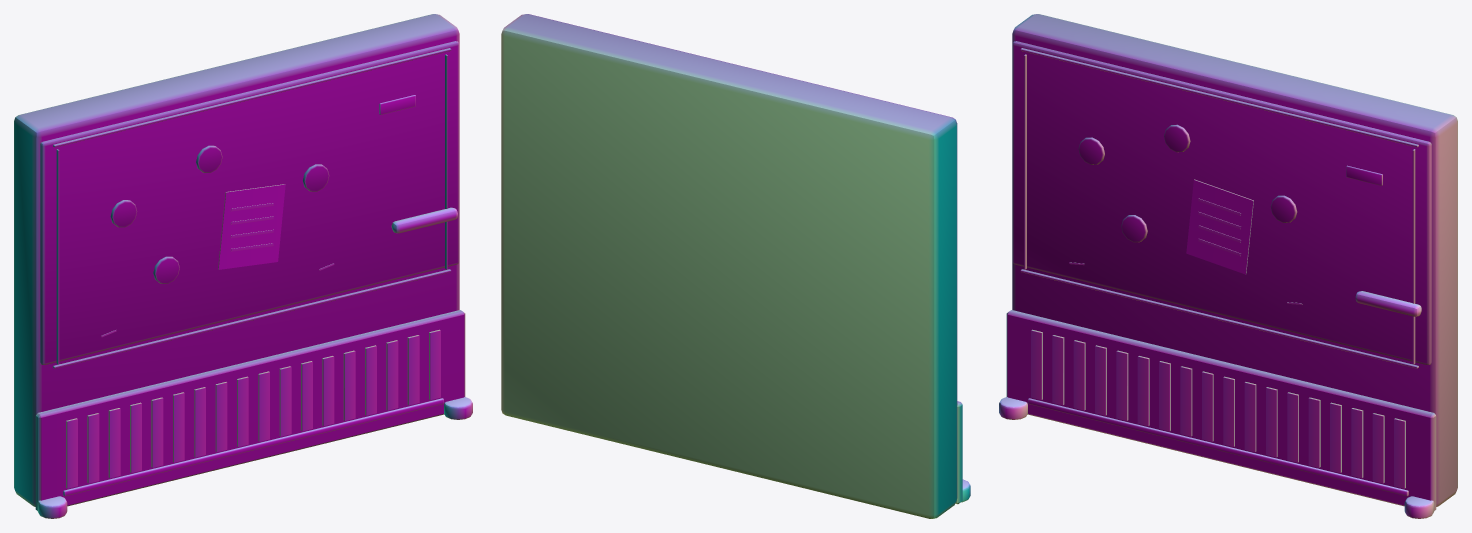
Rendered from env_fridge.glb.
3 renders of one model, left to right at view 1: azimuth 30°, elevation 25°; view 2: azimuth 150°, elevation 25°; view 3: azimuth 330°, elevation 25°, orthographic. The views are drawn at different scales.
Visible parts, largest first — view 1: env_fridge_mesh; view 2: env_fridge_mesh; view 3: env_fridge_mesh.
Part boxes in pixels (x1,y1,x2,y2): env_fridge_mesh: [14, 14, 472, 518]; env_fridge_mesh: [501, 14, 970, 518]; env_fridge_mesh: [999, 14, 1457, 518].
Size of the model in its own units: 2.02 by 1.7 by 0.31.
